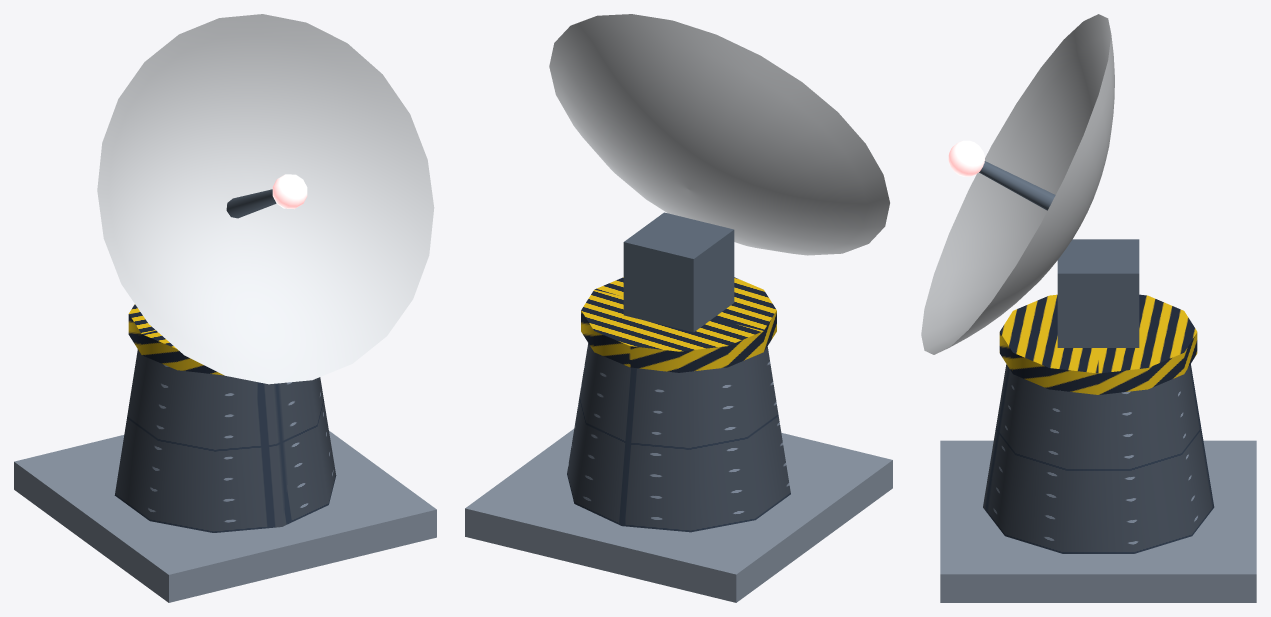
Rendered from radar_dish_rotating.glb.
3 renders of one model, left to right at view 1: azimuth 30°, elevation 25°; view 2: azimuth 150°, elevation 25°; view 3: azimuth 270°, elevation 25°, orthographic. The views are drawn at different scales.
Parts seen in each view (by area): view 1: radar_dish_pivot, radar_dish_rotating; view 2: radar_dish_rotating, radar_dish_pivot; view 3: radar_dish_rotating, radar_dish_pivot.
Part boxes in pixels (left/top/right/bottom): radar_dish_pivot: left=97, top=14, right=434, bottom=384; radar_dish_rotating: left=14, top=304, right=436, bottom=602; radar_dish_rotating: left=465, top=277, right=892, bottom=602; radar_dish_pivot: left=549, top=14, right=889, bottom=332; radar_dish_rotating: left=940, top=294, right=1256, bottom=602; radar_dish_pivot: left=921, top=14, right=1139, bottom=354.
Bounding box in the file's own units: 2.9 × 4.2 × 2.55.
6 materials, 2 textured.
